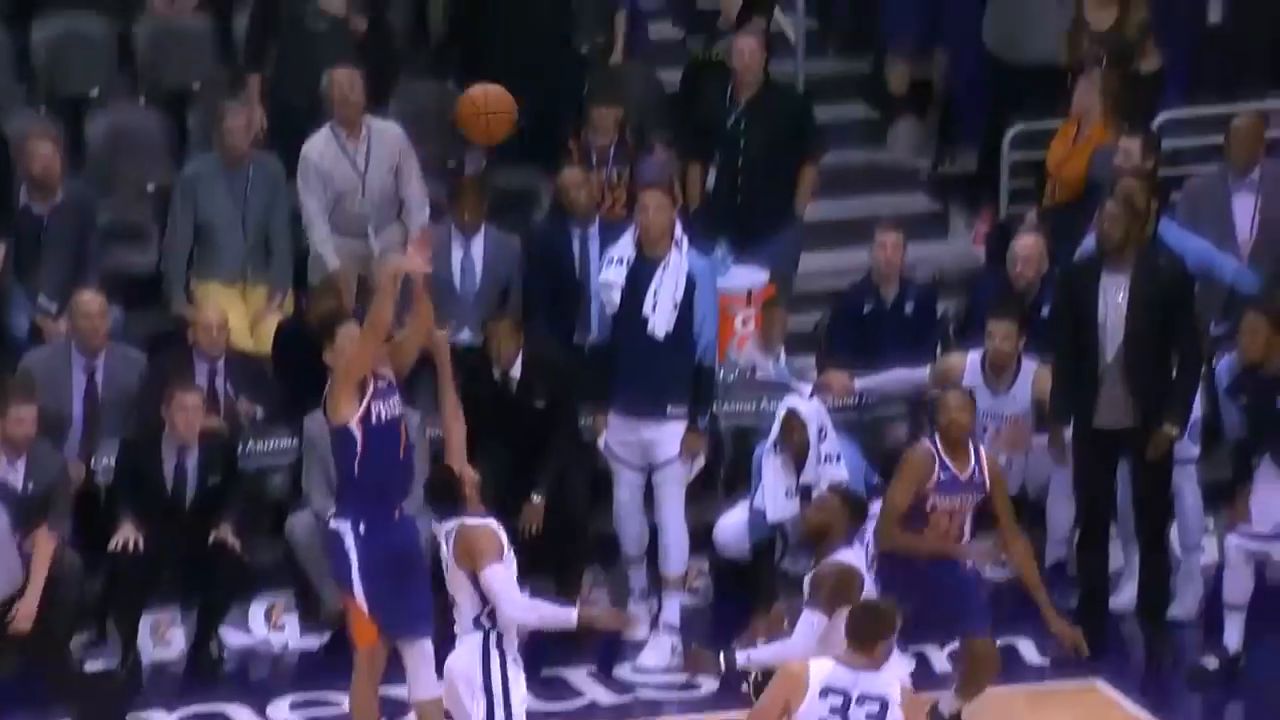ball: (459, 84, 518, 144)
